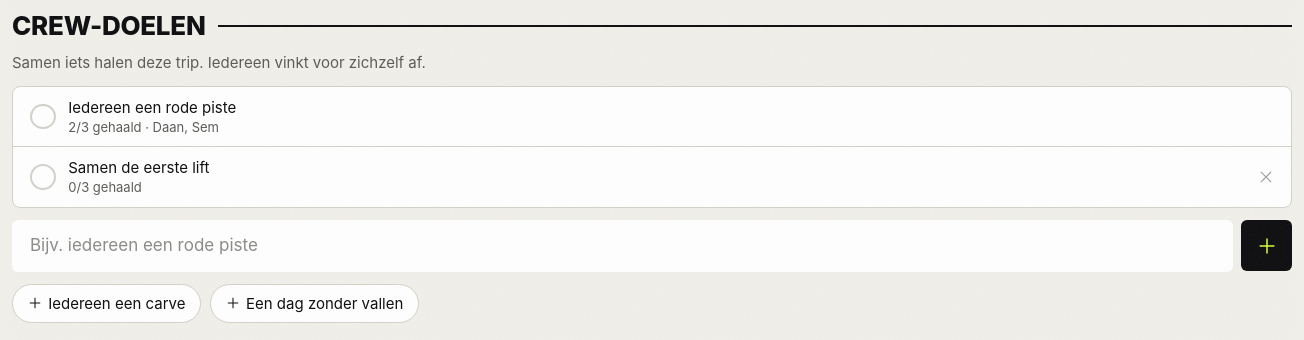
Test: crew-doelen › afvinken voor jezelf; als laatste van de crew wordt het gevierd
Click the checkbox labelled "Iedereen een rode piste 2/3 gehaald · Daan, Sem" at (152, 107), box x1=13 y1=86 x2=1278 y2=146
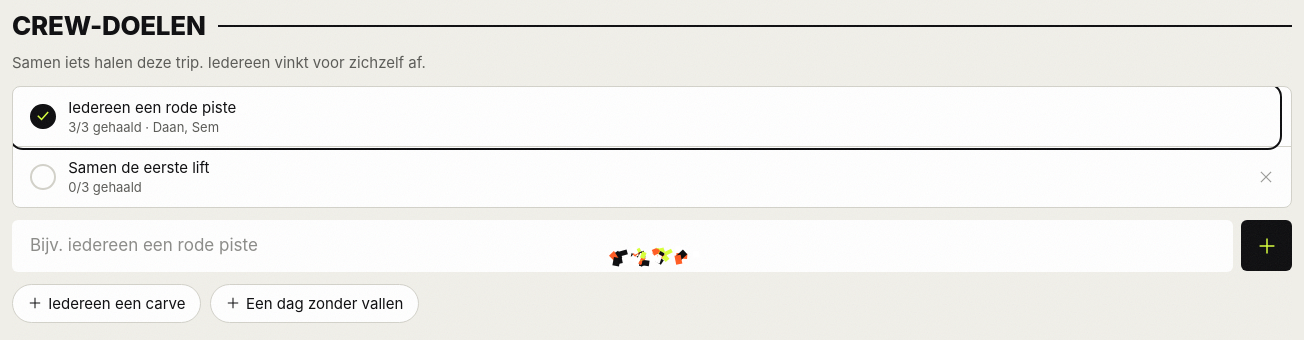
Expected: the text "3/3 gehaald · Daan, Sem" is shown, x1=68 y1=119 x2=219 y2=135
